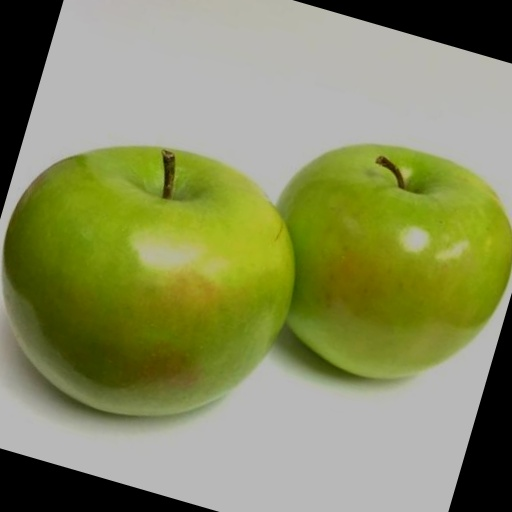fruit: (112, 68, 467, 391), (0, 106, 69, 441)
